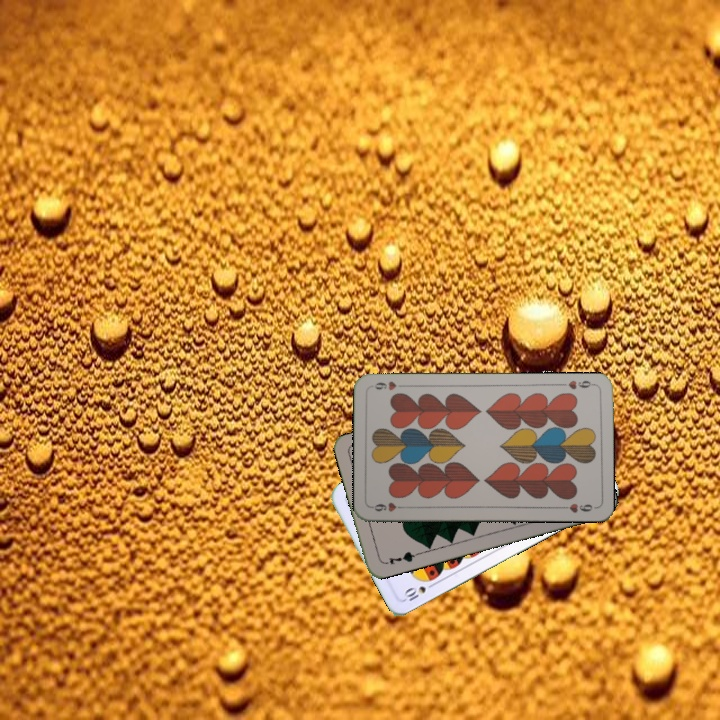G7: (380, 548, 420, 568)
H9: (557, 376, 597, 392), (368, 499, 409, 514)
S10: (399, 579, 438, 604)
